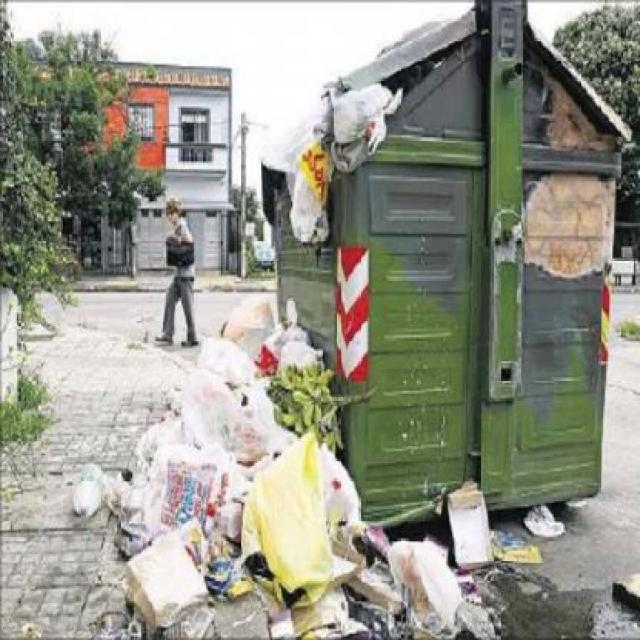garbage: (52, 363, 586, 638), (257, 83, 408, 244), (202, 305, 330, 368)
